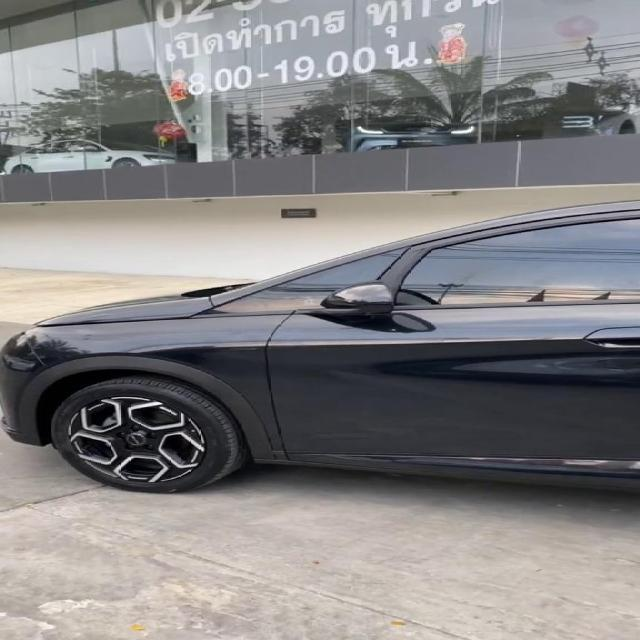Hatchback: (0, 201, 639, 493)
